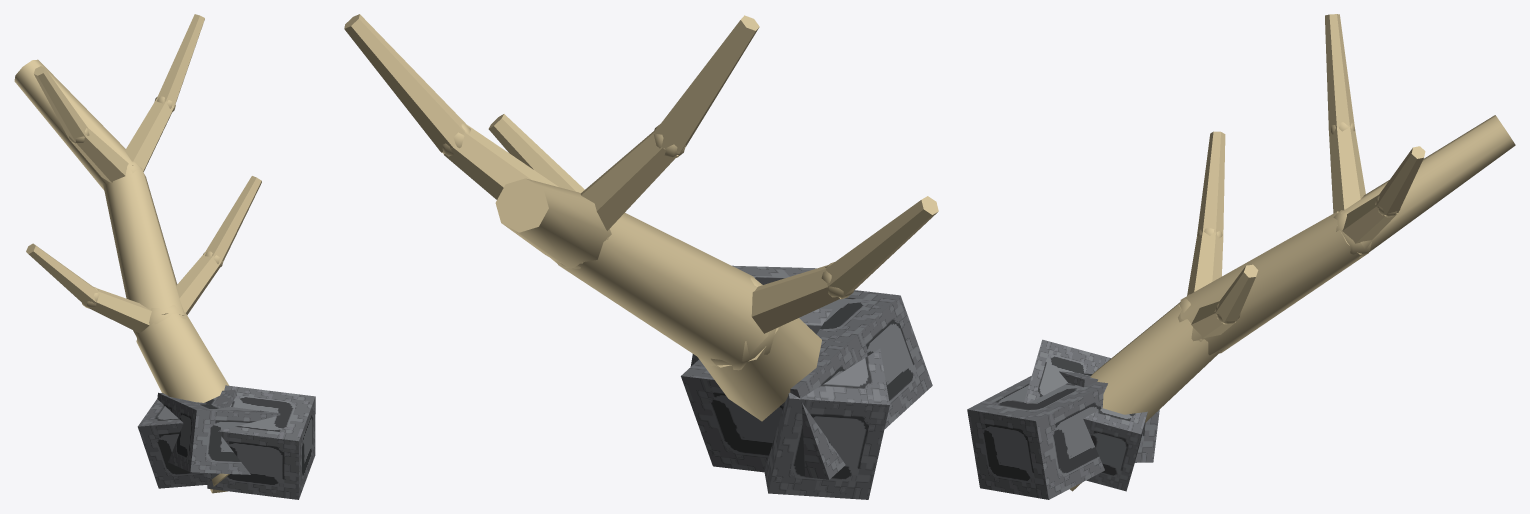
File: DriftwoodSnag.fbx
3 renders of one model, left to right at view 1: azimuth 30°, elevation 25°; view 2: azimuth 150°, elevation 25°; view 3: azimuth 270°, elevation 25°, orthographic. The views are drawn at different scales.
Parts seen in each view (by area): view 1: DriftwoodSnag; view 2: DriftwoodSnag; view 3: DriftwoodSnag.
Boxes of the visible parts, x1,y1,x2,y2 form: DriftwoodSnag: (14, 14, 315, 499); DriftwoodSnag: (344, 14, 938, 499); DriftwoodSnag: (967, 14, 1515, 499).
Size of the model in its own units: 470 by 622 by 721.
Materials: 1 (1 with a texture image).
